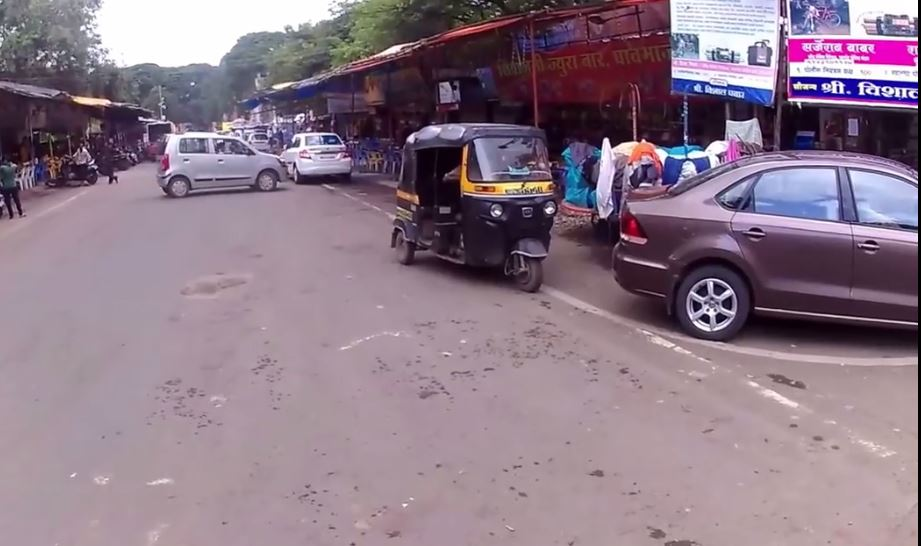autorickshaw: (389, 117, 572, 307)
car: (604, 137, 921, 365), (148, 125, 287, 208), (281, 129, 361, 190), (243, 128, 275, 152)
